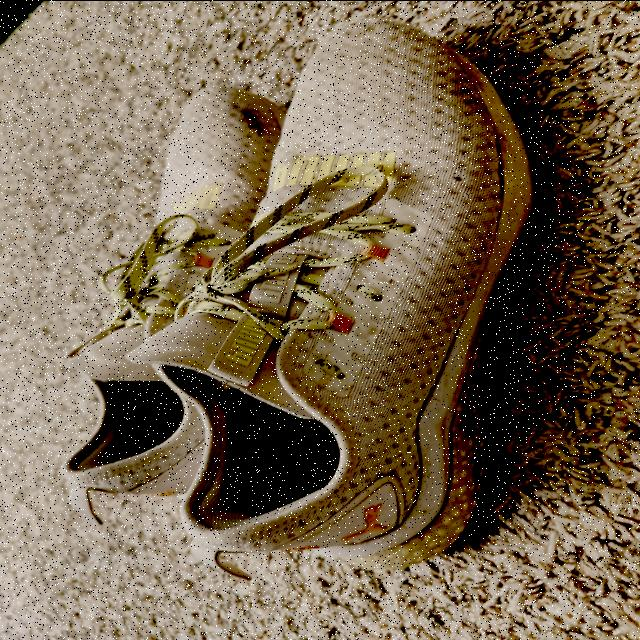white shoes: (158, 22, 530, 569)
